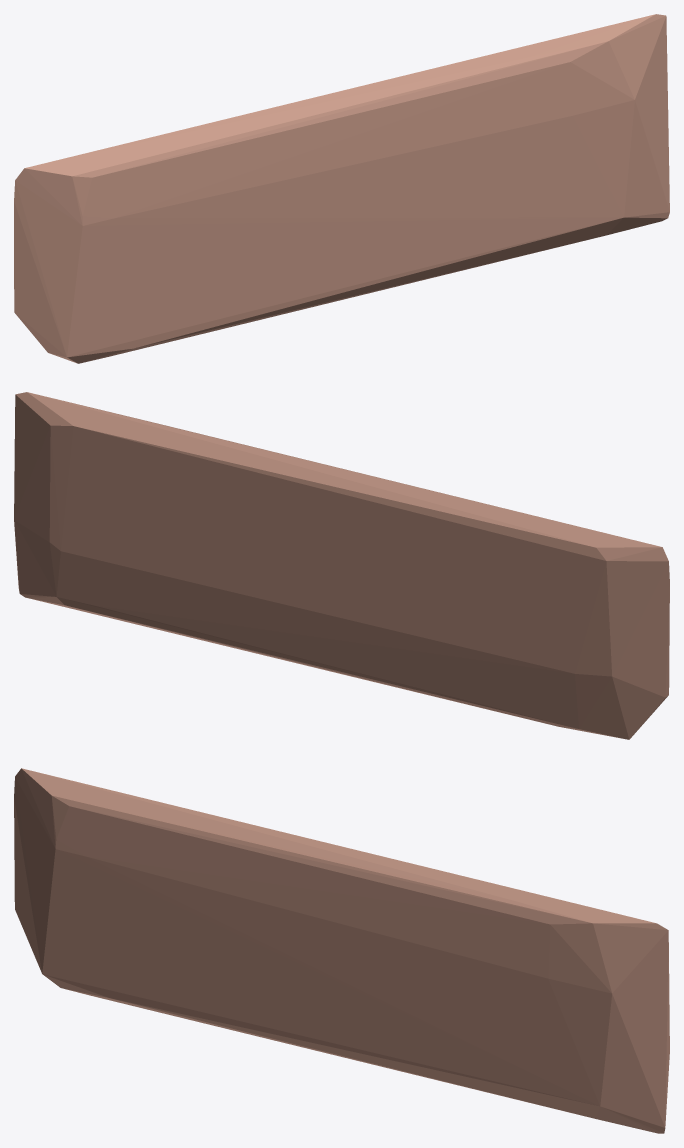
The model's file is food_packaged_pasta_spaghetti_a01.glb.
The picture shows the model from 3 angles, top to bottom: view 1: azimuth 30°, elevation 25°; view 2: azimuth 150°, elevation 25°; view 3: azimuth 330°, elevation 25°; orthographic projection.
Parts seen in each view (by area): view 1: geometry_0; view 2: geometry_0; view 3: geometry_0.
Boxes of the visible parts, x1=… form: geometry_0: x1=14, y1=14, x2=669, y2=363; geometry_0: x1=14, y1=392, x2=669, y2=739; geometry_0: x1=14, y1=768, x2=669, y2=1133.
Size of the model in its own units: 0.4795 by 0.1453 by 0.0294.
